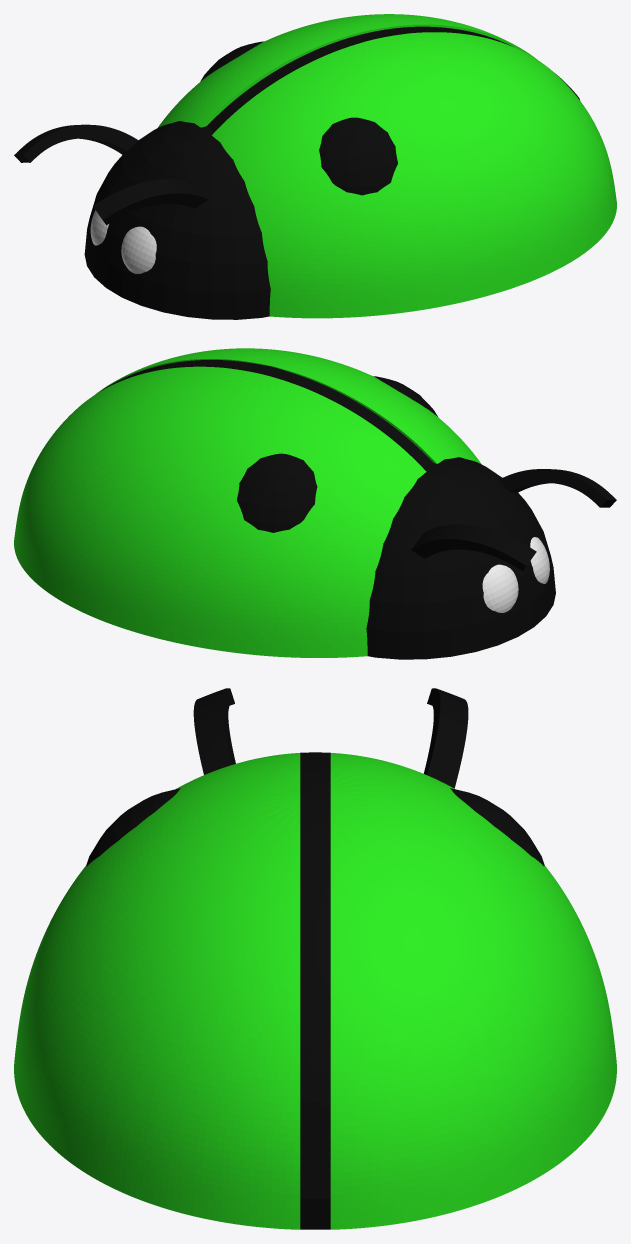
Rendered from Green_Ladybird.glb.
3 renders of one model, top to bottom at view 1: azimuth 30°, elevation 25°; view 2: azimuth 150°, elevation 25°; view 3: azimuth 270°, elevation 25°, orthographic. The views are drawn at different scales.
Visible parts, largest first — view 1: Body, Head, L_Spot, L_Tenna, Stripe, R_Tenna, L_Eye, R_Spot, R_Eye; view 2: Body, Head, R_Spot, Stripe, R_Tenna, L_Tenna, R_Eye, L_Eye, L_Spot; view 3: Body, Stripe, R_Tenna, L_Tenna, R_Spot, L_Spot.
Boxes of the visible parts, box(x1,y1,x2,y2) form: Body: box(158, 14, 616, 318); Head: box(84, 121, 270, 319); L_Spot: box(319, 117, 397, 195); L_Tenna: box(93, 179, 208, 225); Stripe: box(207, 26, 579, 132); R_Tenna: box(14, 124, 138, 162); L_Eye: box(121, 226, 156, 273); R_Spot: box(200, 41, 263, 81); R_Eye: box(90, 210, 108, 245); Body: box(14, 348, 481, 657); Head: box(366, 457, 555, 659); R_Spot: box(237, 453, 317, 532); Stripe: box(100, 360, 433, 467); R_Tenna: box(411, 524, 536, 571); L_Tenna: box(499, 469, 616, 507); R_Eye: box(482, 564, 518, 612); L_Eye: box(530, 537, 549, 583); L_Spot: box(373, 376, 438, 417); Body: box(14, 753, 616, 1229); Stripe: box(300, 756, 330, 1229); R_Tenna: box(423, 688, 468, 788); L_Tenna: box(193, 688, 235, 774); R_Spot: box(450, 788, 544, 866); L_Spot: box(86, 788, 180, 866).
Bounding box in the file's own units: 2.93 × 0.9942 × 1.99.
